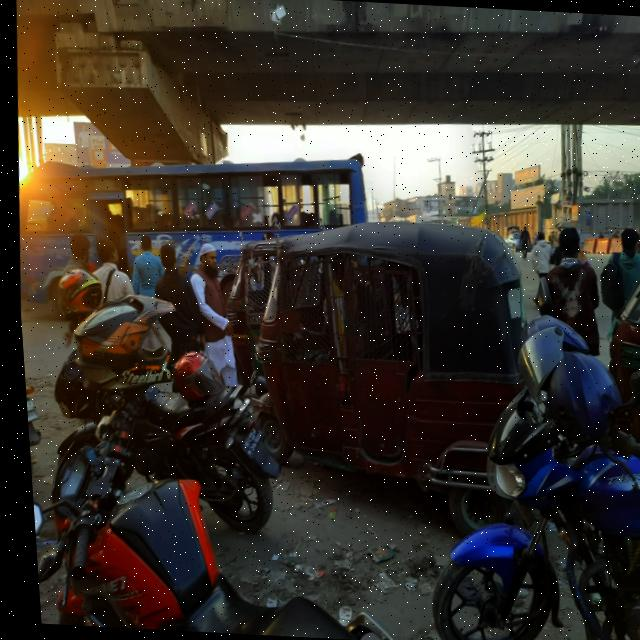cng: (228, 210, 558, 526)
